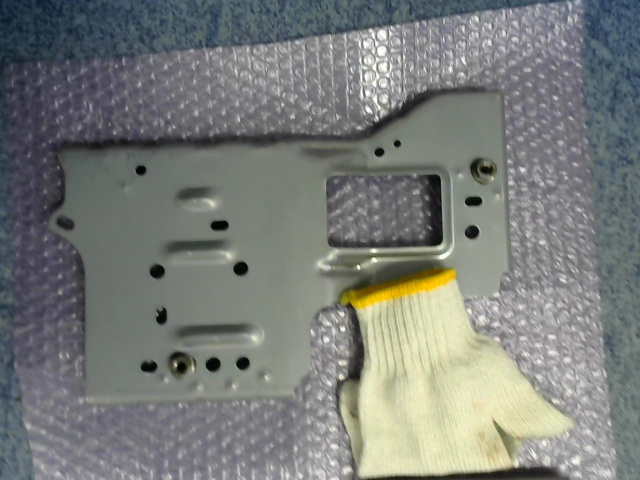dog: (470, 157, 498, 185), (169, 352, 195, 379)
